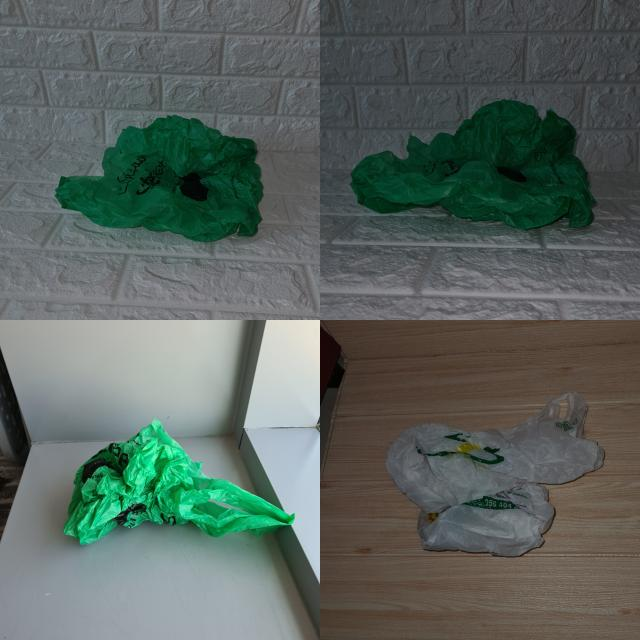Single-layer Plastic: (386, 392, 604, 556), (351, 100, 595, 229), (64, 419, 294, 544), (56, 115, 262, 241)
